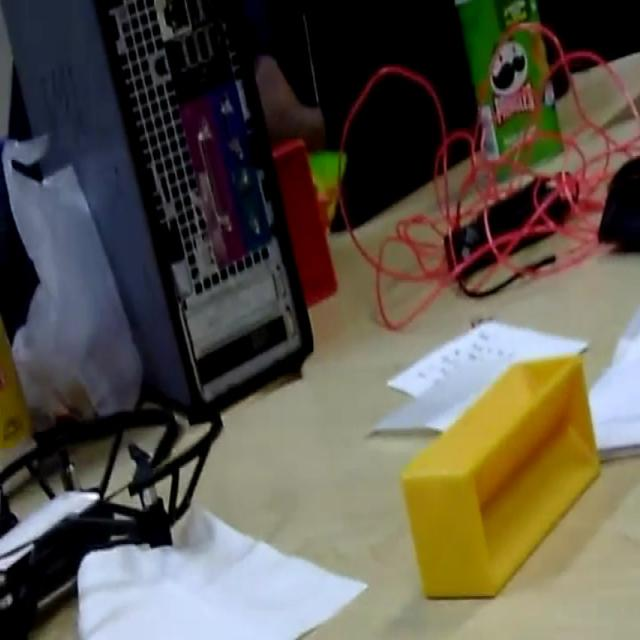red_block: (270, 134, 338, 306)
yellow_block: (399, 351, 601, 600)
